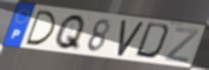8: (86, 18, 112, 53)
D: (133, 21, 174, 62), (24, 8, 58, 47)
Q: (53, 13, 88, 52)
V: (116, 19, 146, 58)
Z: (162, 27, 201, 65)
